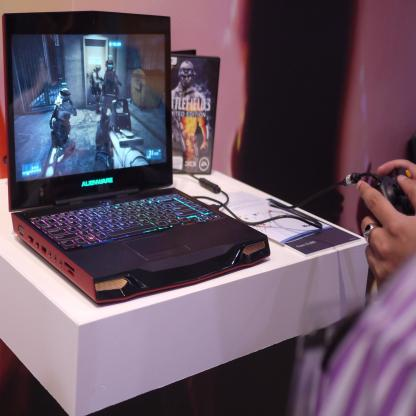board: (0, 10, 271, 305)
